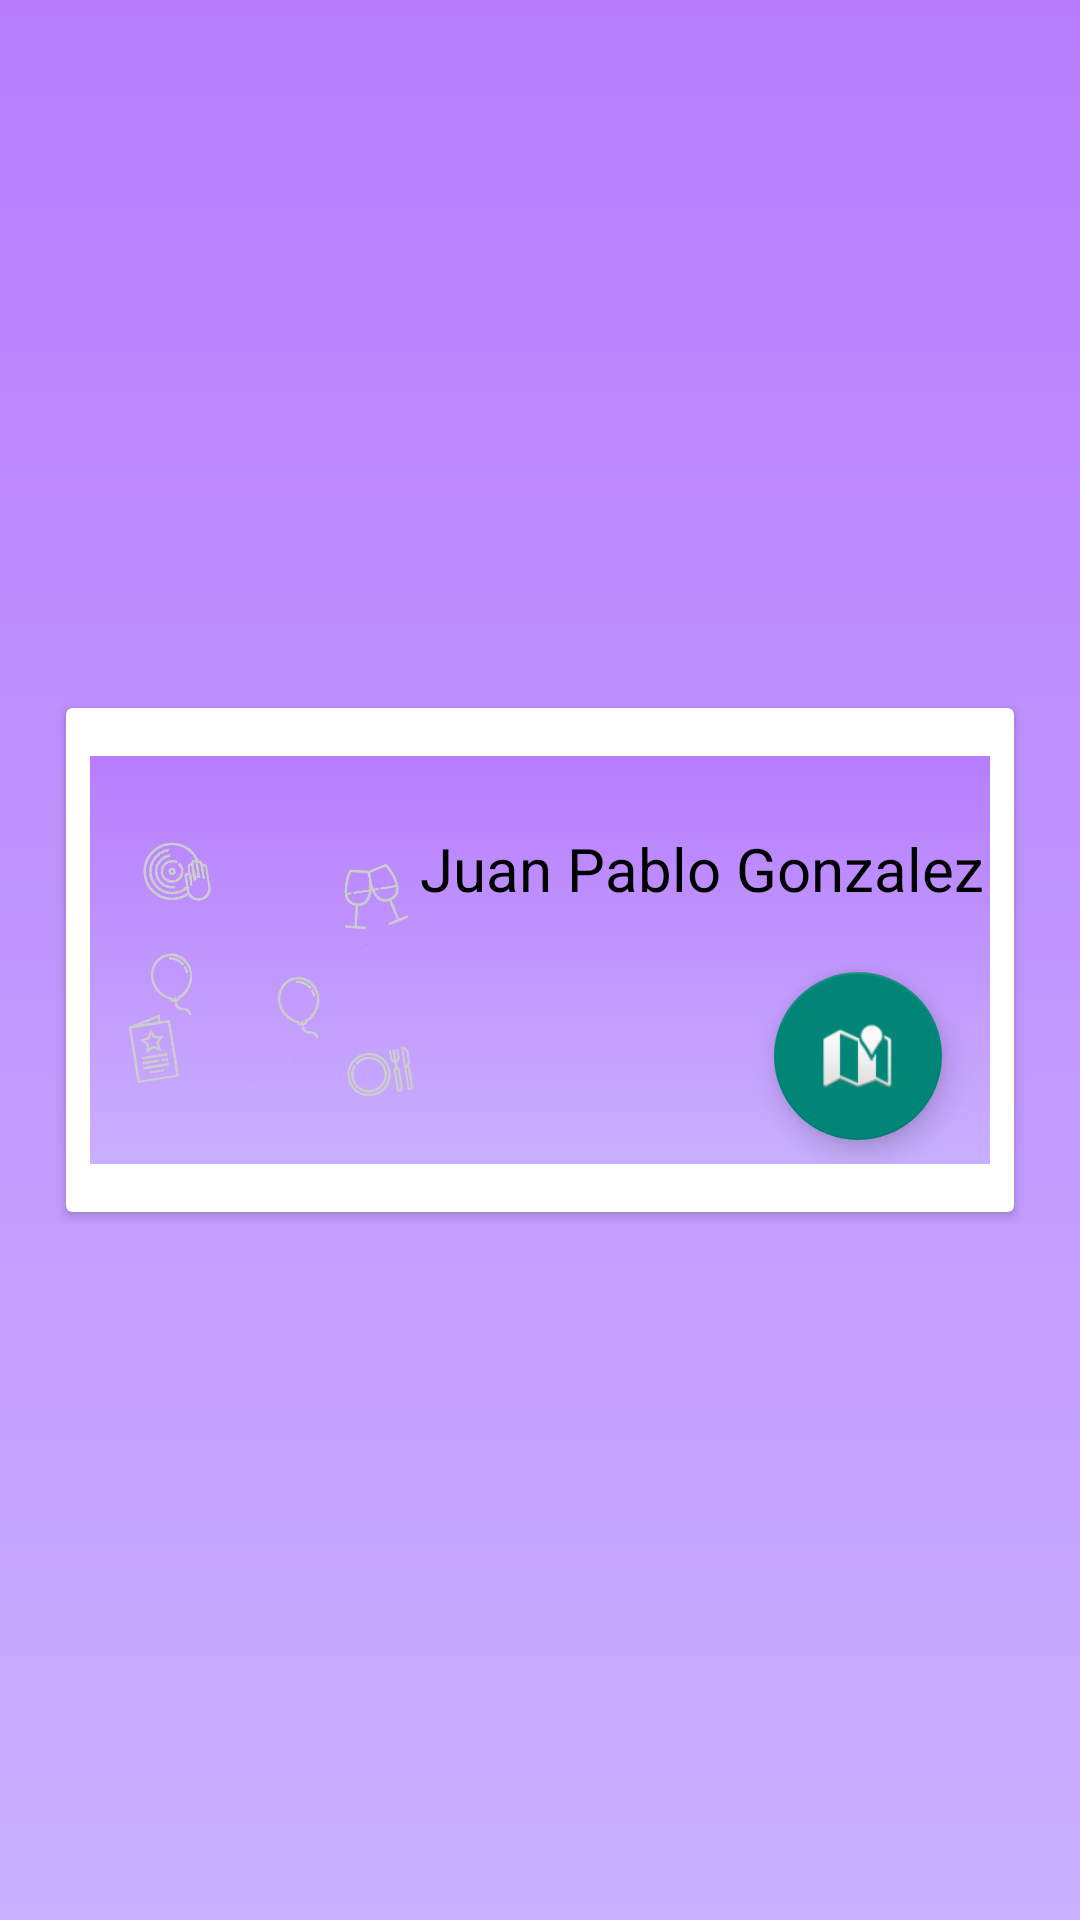

Point at icon controls on the screen. Image size 1080x1920, points as (x,y).
View real time location: (858,1056)
